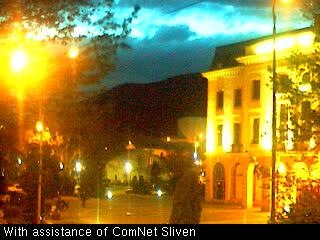person: (80, 188, 90, 208)
